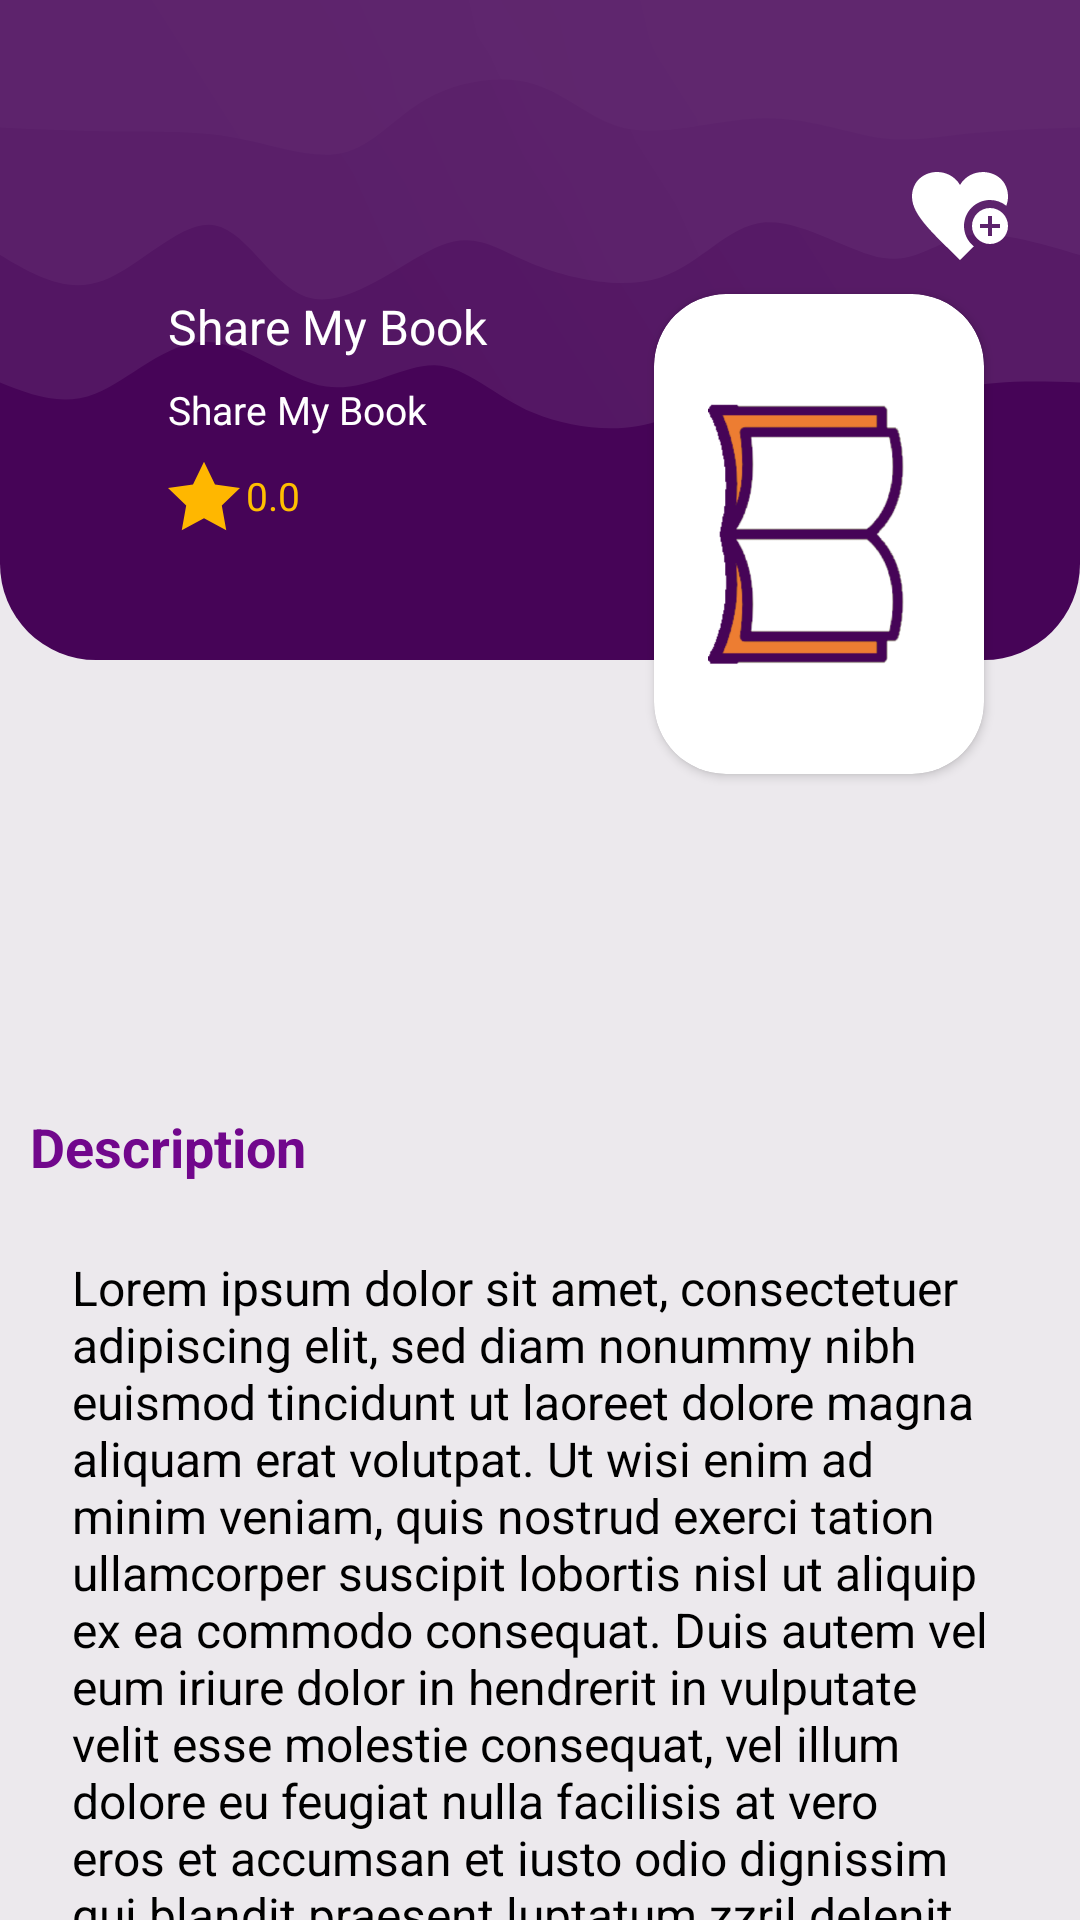

Icons on this 1080 x 1920 Android screen, each with its box as (x1, y1, x2, y2):
like it: (912, 172, 1008, 260)
